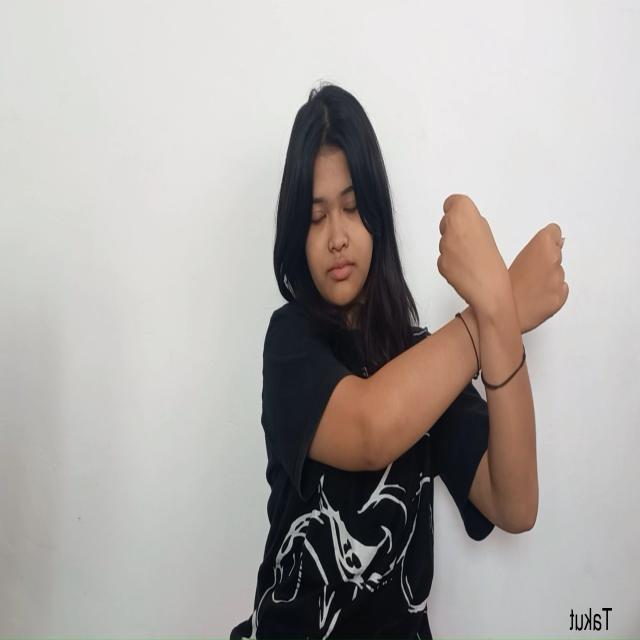Takut -BISINDO-: (435, 190, 571, 397)
